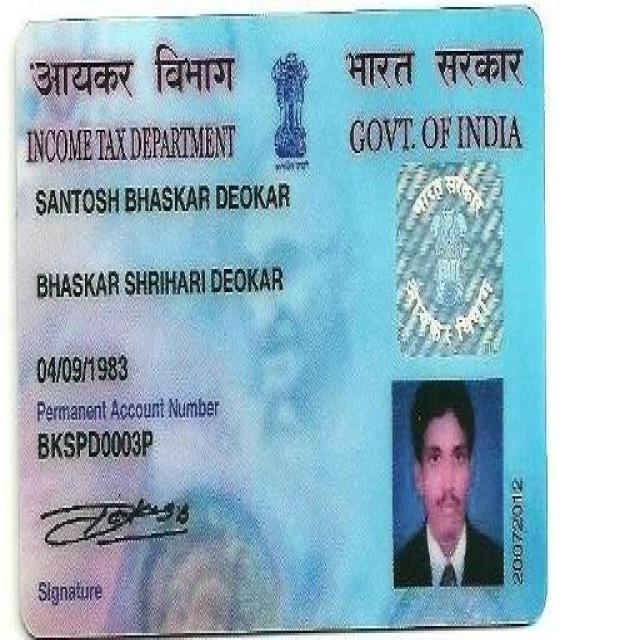pan_card: (16, 20, 546, 624)
